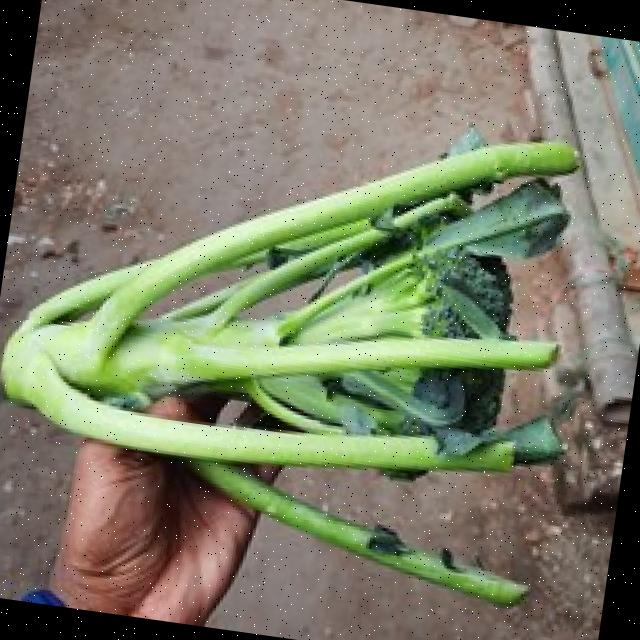Broccoli: (441, 248, 513, 334), (442, 249, 513, 333), (415, 369, 505, 433), (417, 368, 504, 433), (423, 297, 477, 338), (424, 305, 477, 338)
